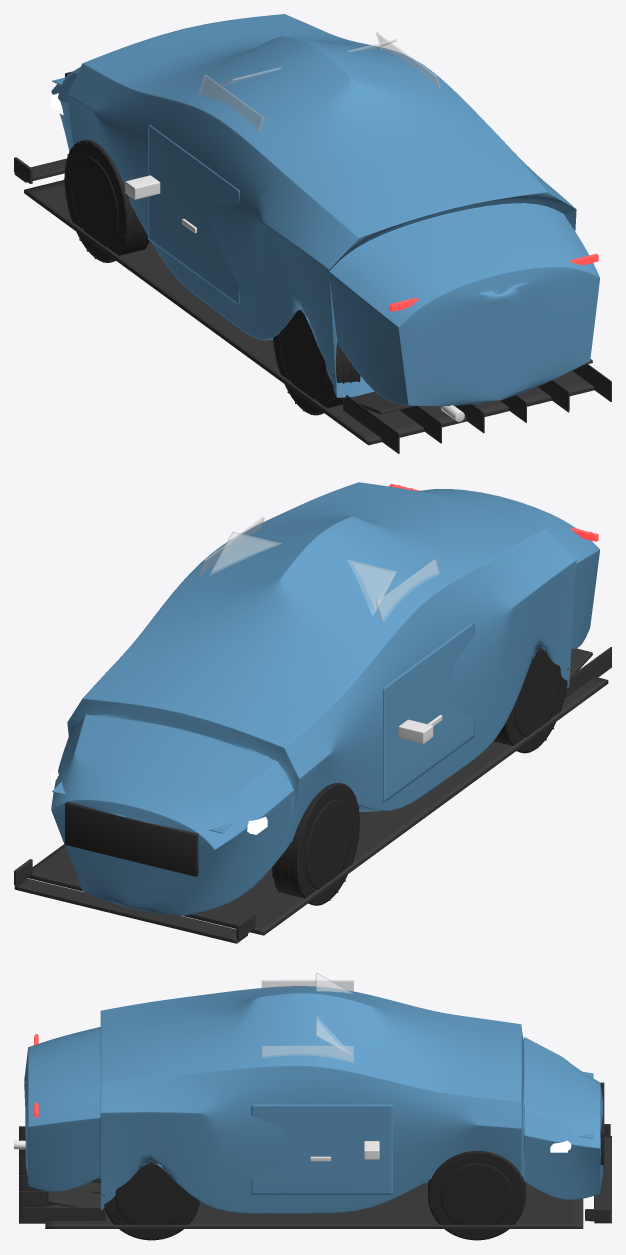
File: Car_Range_Rover_Classic_1970s_Complete.glb
3 views of the same model, one above another, from view 1: azimuth 30°, elevation 25°; view 2: azimuth 150°, elevation 25°; view 3: azimuth 270°, elevation 25° (orthographic). The views are drawn at different scales.
Visible parts, largest first — view 1: BODY_MainShell, UNDERBODY_FlatFloor, BODY_Door_FL, WHEEL_FL_Tire, WHEEL_RL_Tire, GLASS_Greenhouse, AERO_FrontSplitter, JEWELRY_Hardware; view 2: BODY_MainShell, UNDERBODY_FlatFloor, BODY_Door_FL, WHEEL_FL_Tire, JEWELRY_RRC_VerticalGrille, GLASS_Greenhouse, WHEEL_RL_Tire, AERO_FrontSplitter, JEWELRY_Hardware; view 3: BODY_MainShell, UNDERBODY_FlatFloor, BODY_Door_FR, WHEEL_FR_Tire, WHEEL_RR_Tire, GLASS_Greenhouse, AERO_FrontSplitter, JEWELRY_Hardware.
Part boxes in pixels (x1,y1,x2,y2): BODY_MainShell: (51,14,599,406); UNDERBODY_FlatFloor: (24,180,611,453); BODY_Door_FL: (148,124,239,305); WHEEL_FL_Tire: (63,140,149,262); WHEEL_RL_Tire: (272,310,360,415); GLASS_Greenhouse: (198,32,440,131); AERO_FrontSplitter: (14,157,66,183); JEWELRY_Hardware: (125,175,196,233); BODY_MainShell: (51,482,599,915); UNDERBODY_FlatFloor: (28,647,611,935); BODY_Door_FL: (383,621,474,802); WHEEL_FL_Tire: (272,783,360,905); JEWELRY_RRC_VerticalGrille: (65,801,198,876); GLASS_Greenhouse: (198,517,440,621); WHEEL_RL_Tire: (493,648,568,753); AERO_FrontSplitter: (14,859,255,943); JEWELRY_Hardware: (398,715,442,743); BODY_MainShell: (24,986,602,1213); UNDERBODY_FlatFloor: (19,1126,583,1228); BODY_Door_FR: (251,1104,392,1194); WHEEL_FR_Tire: (428,1150,525,1240); WHEEL_RR_Tire: (103,1162,199,1240); GLASS_Greenhouse: (261,973,353,1062); AERO_FrontSplitter: (585,1124,611,1223); JEWELRY_Hardware: (310,1141,379,1161).
Size of what is drawn, in the model's own units: 2.1 by 1.75 by 4.67.
